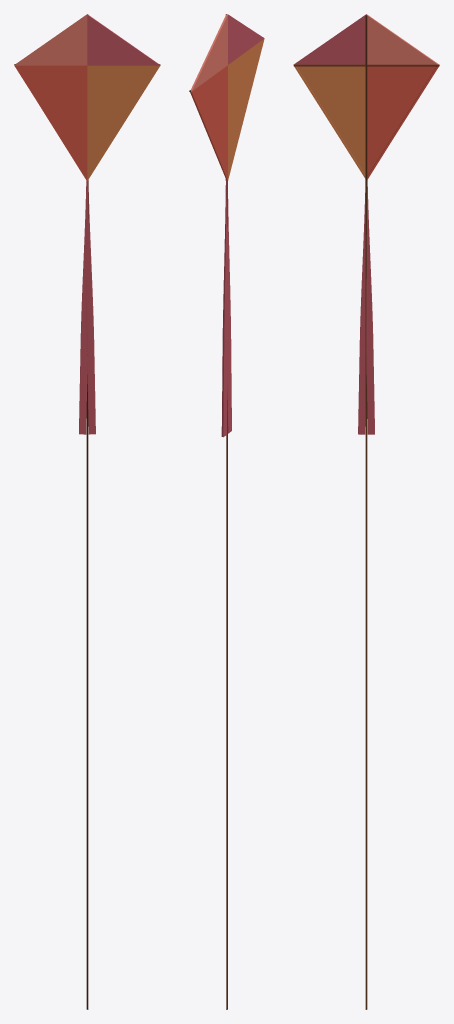
The model's file is 8. Kite without armature.fbx.
The picture shows the model from 3 angles, left to right: view 1: azimuth 90°, elevation 25°; view 2: azimuth 150°, elevation 25°; view 3: azimuth 270°, elevation 25°; orthographic projection.
Visible parts, largest first — view 1: bottom-right, bottom-left, top right, top-left, Rope, Stripe 1, Stripe 2; view 2: bottom-right, bottom-left, Rope, Stripe 2, top right, top-left, Stripe 1; view 3: bottom-right, bottom-left, Rope, top-left, top right, Stripe 1, Stripe 2, Verical stick, Horizontal stick.
Part boxes in pixels (x1=…): bottom-right: x1=15, y1=65, x2=87, y2=181; bottom-left: x1=87, y1=65, x2=159, y2=180; top right: x1=14, y1=15, x2=87, y2=65; top-left: x1=87, y1=14, x2=160, y2=65; Rope: x1=86, y1=180, x2=88, y2=1009; Stripe 1: x1=86, y1=180, x2=95, y2=434; Stripe 2: x1=79, y1=184, x2=87, y2=434; bottom-right: x1=191, y1=65, x2=227, y2=181; bottom-left: x1=228, y1=38, x2=264, y2=180; Rope: x1=226, y1=181, x2=227, y2=1009; Stripe 2: x1=221, y1=180, x2=227, y2=437; top right: x1=191, y1=15, x2=227, y2=91; top-left: x1=228, y1=14, x2=264, y2=64; Stripe 1: x1=226, y1=179, x2=231, y2=433; bottom-right: x1=367, y1=66, x2=436, y2=178; bottom-left: x1=296, y1=66, x2=365, y2=174; Rope: x1=365, y1=180, x2=367, y2=1009; top-left: x1=293, y1=14, x2=366, y2=64; top right: x1=367, y1=17, x2=438, y2=64; Stripe 1: x1=358, y1=180, x2=367, y2=434; Stripe 2: x1=366, y1=182, x2=374, y2=434; Verical stick: x1=365, y1=15, x2=367, y2=181; Horizontal stick: x1=293, y1=64, x2=439, y2=66.
Bounding box in the file's own units: 1.47 × 600 × 79.77.
